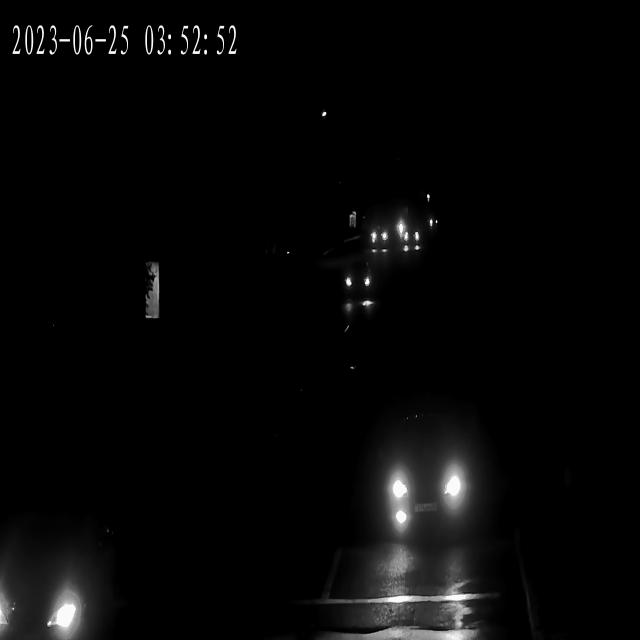Car: (1, 512, 106, 638), (375, 416, 475, 532), (340, 266, 376, 302), (367, 224, 390, 250), (398, 229, 420, 251), (398, 225, 420, 247), (402, 228, 422, 249), (394, 222, 414, 240)
